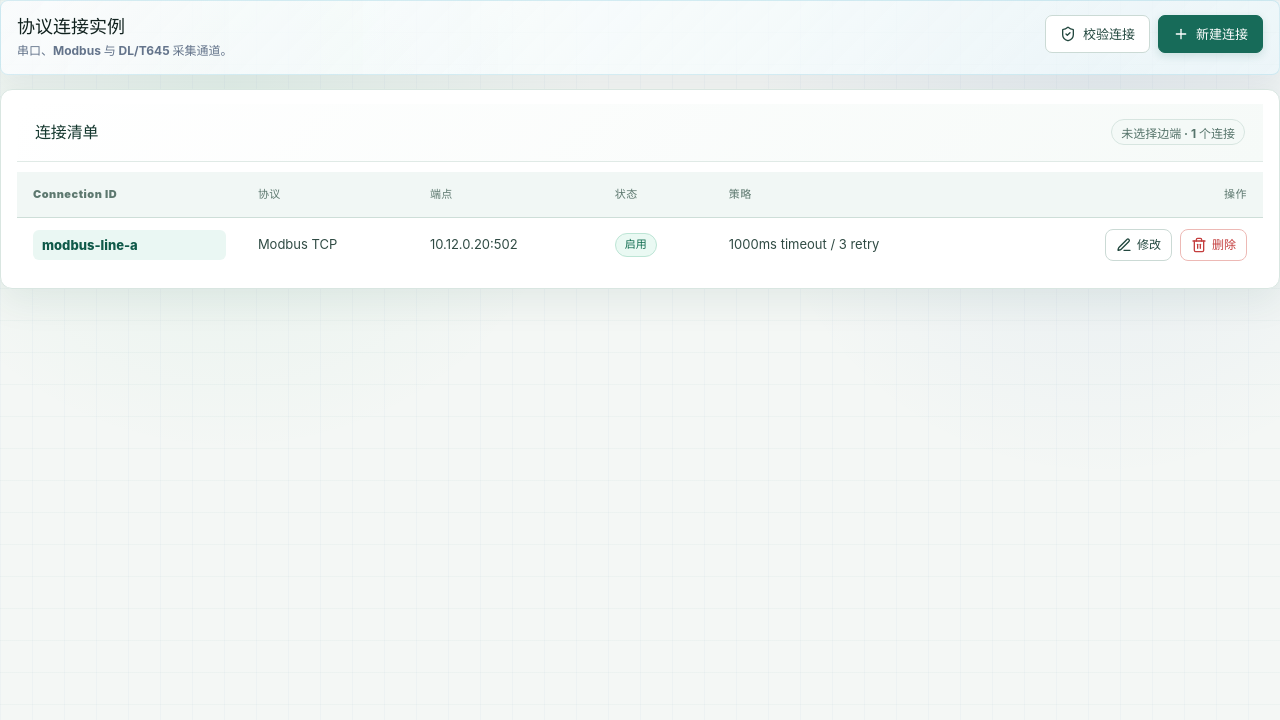
it: ProtocolConnectionsPage › saves edited protocol connection drafts from the editor drawer
Click the button with aria-label "编辑连接 modbus-line-a".
click(129, 245)  # box [33, 230, 226, 260]
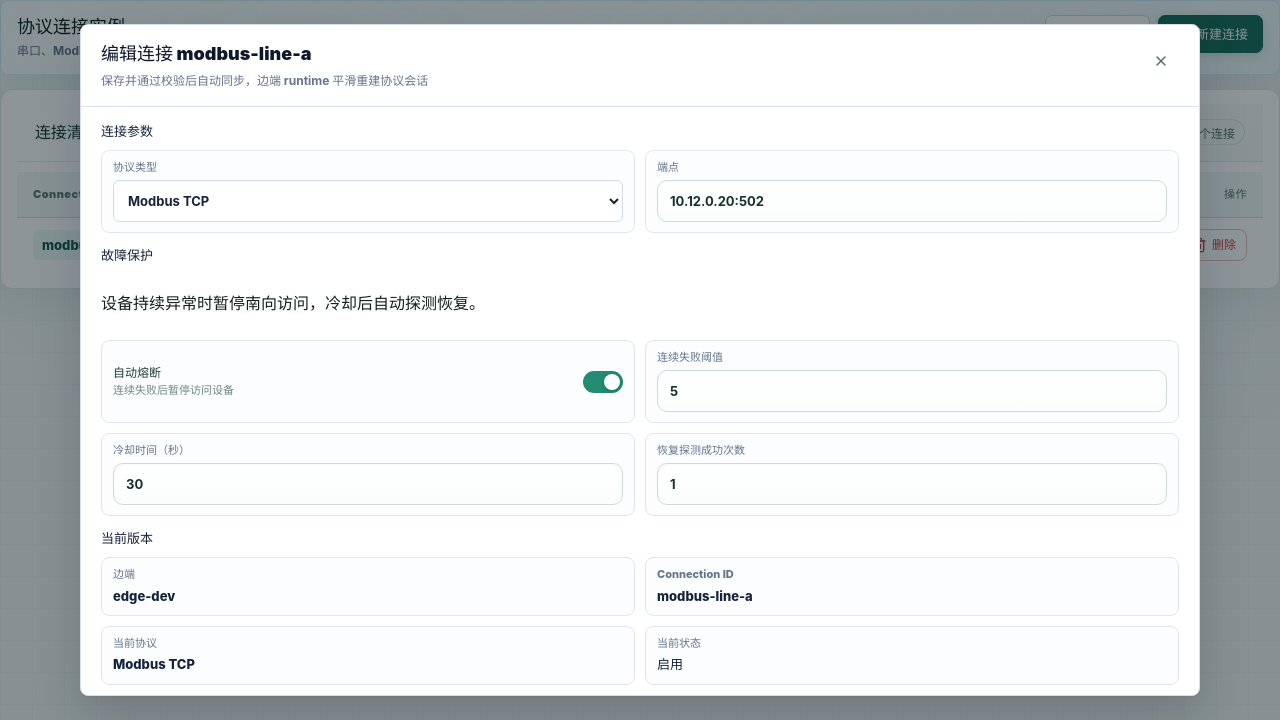
Select "OPC UA" in the dropdown labelled "协议类型" at (368, 201), box [113, 180, 623, 222]
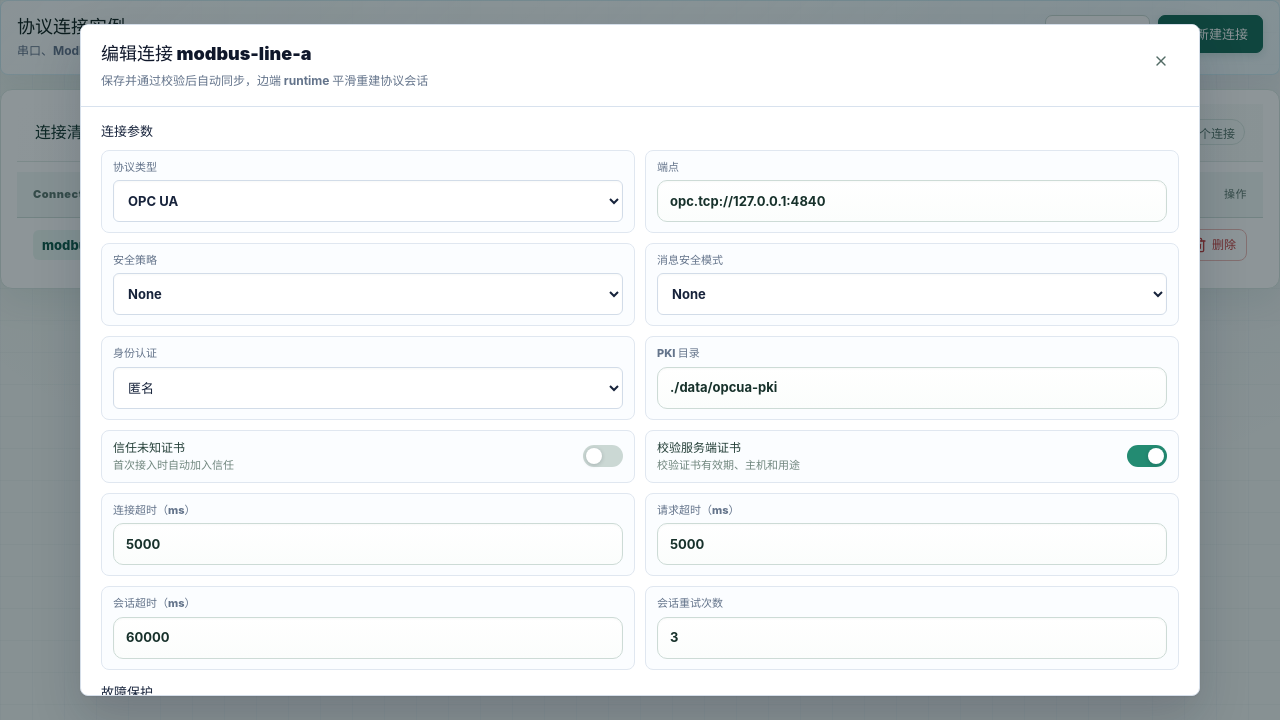
Replace the text in the field labelled "端点" with "opc.tcp://10.12.0.80:4840" at (912, 201), box [657, 180, 1167, 222]
(page scrolled)
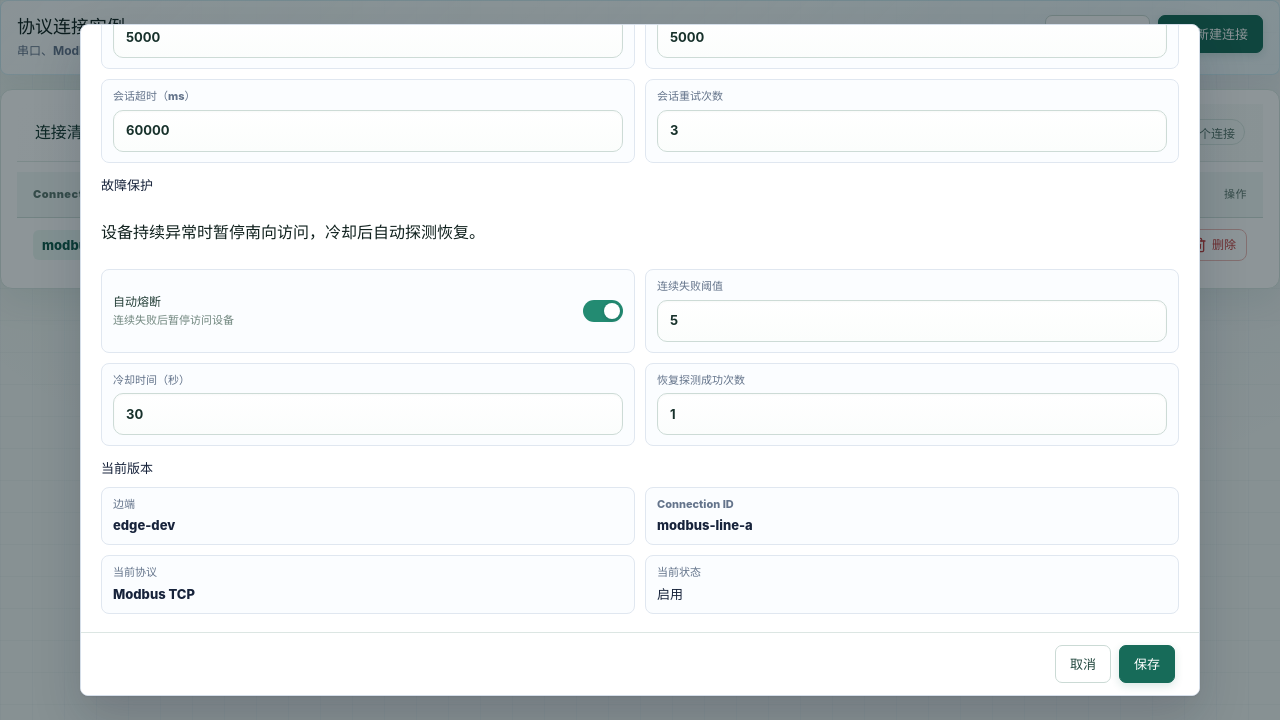
Click the button "保存".
click(1147, 664)  # box [1119, 645, 1175, 683]
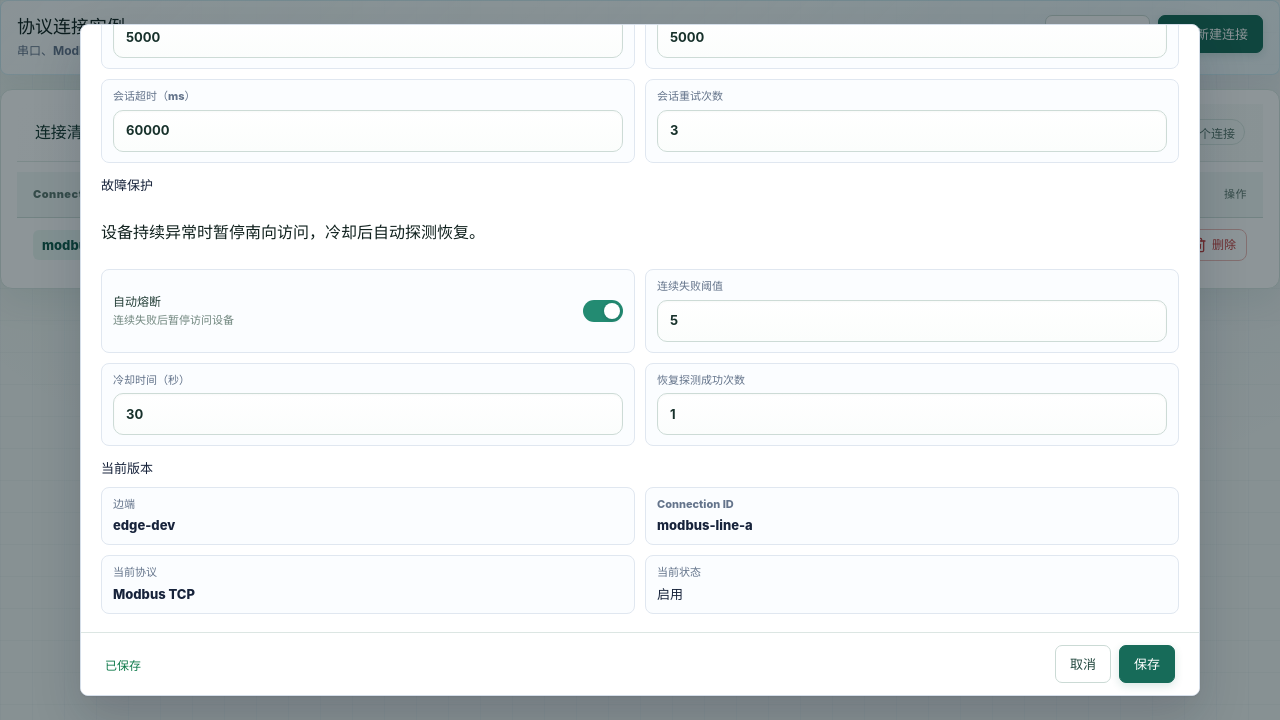
Now the text "已保存" is shown, box [105, 656, 141, 673]
